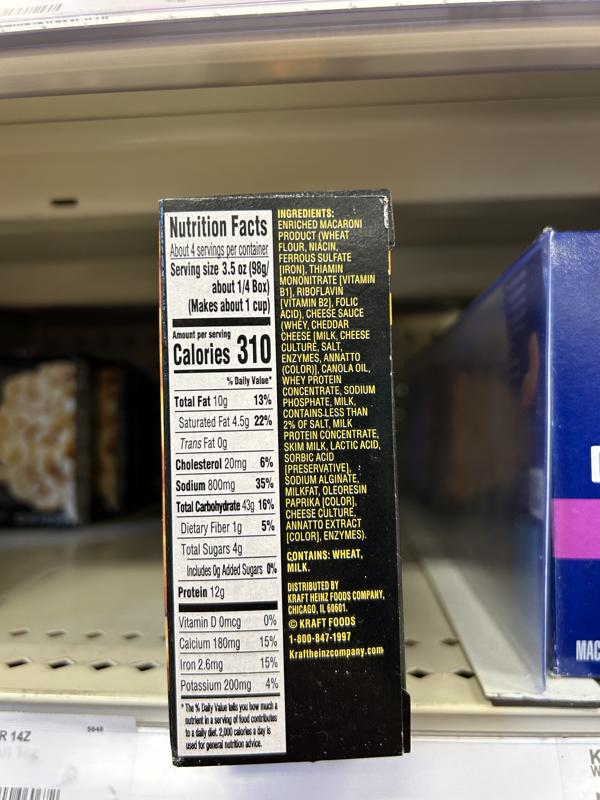ingredients: (274, 205, 385, 546)
